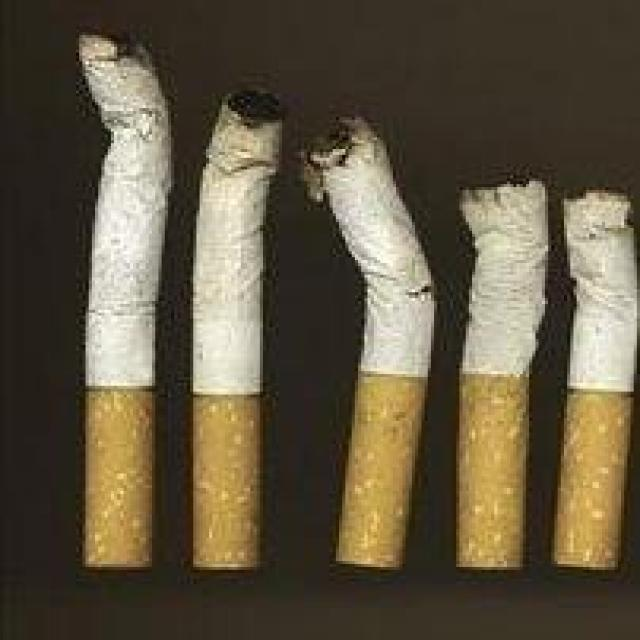-Other waste - cigarette butt-: (309, 114, 435, 570), (72, 32, 174, 569), (194, 89, 280, 569), (458, 180, 547, 567), (562, 190, 640, 570)
